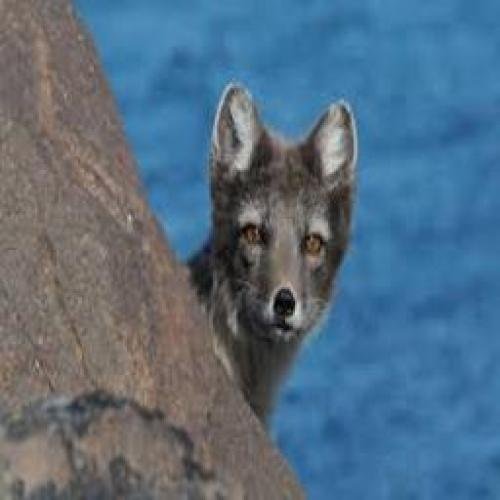arctic_fox-endangered: (183, 82, 357, 425)
